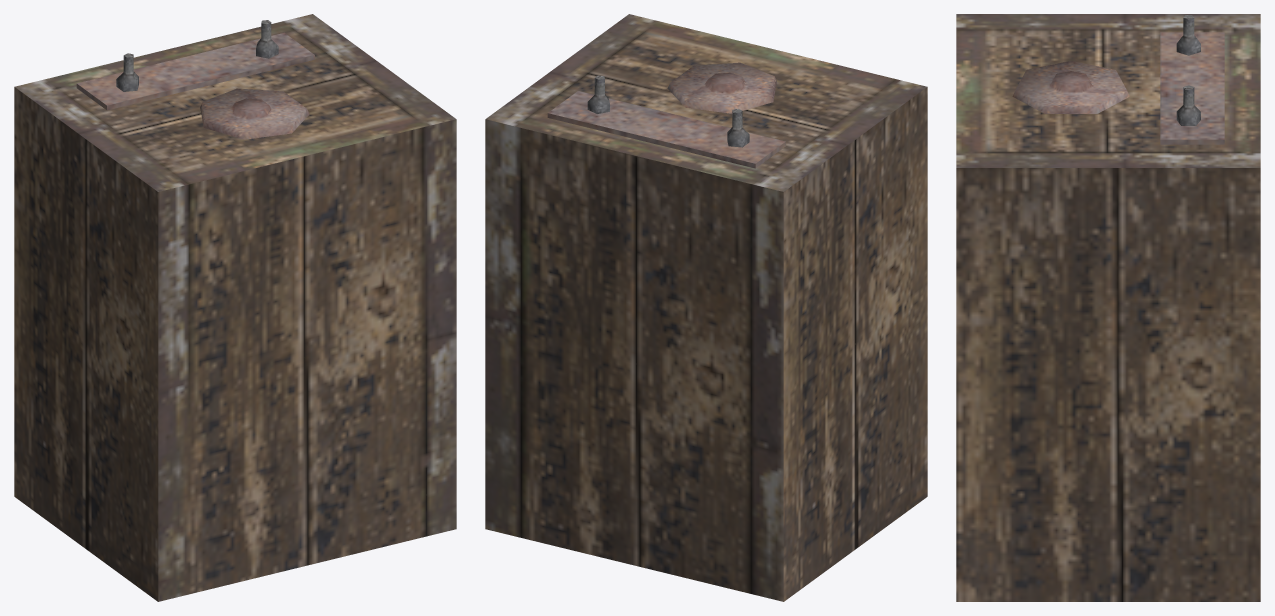
The model's file is detonator.glb.
3 views of the same model, side by side, from view 1: azimuth 30°, elevation 25°; view 2: azimuth 150°, elevation 25°; view 3: azimuth 270°, elevation 25° (orthographic). The views are drawn at different scales.
Visible parts, largest first — view 1: Detonator; view 2: Detonator; view 3: Detonator.
Boxes of the visible parts, bbox=[...] form: Detonator: bbox=[14, 14, 456, 601]; Detonator: bbox=[485, 14, 927, 601]; Detonator: bbox=[956, 14, 1260, 601].
Size of the model in its own units: 0.512 by 0.7319 by 0.4272.
Materials: 1 (1 with a texture image).
